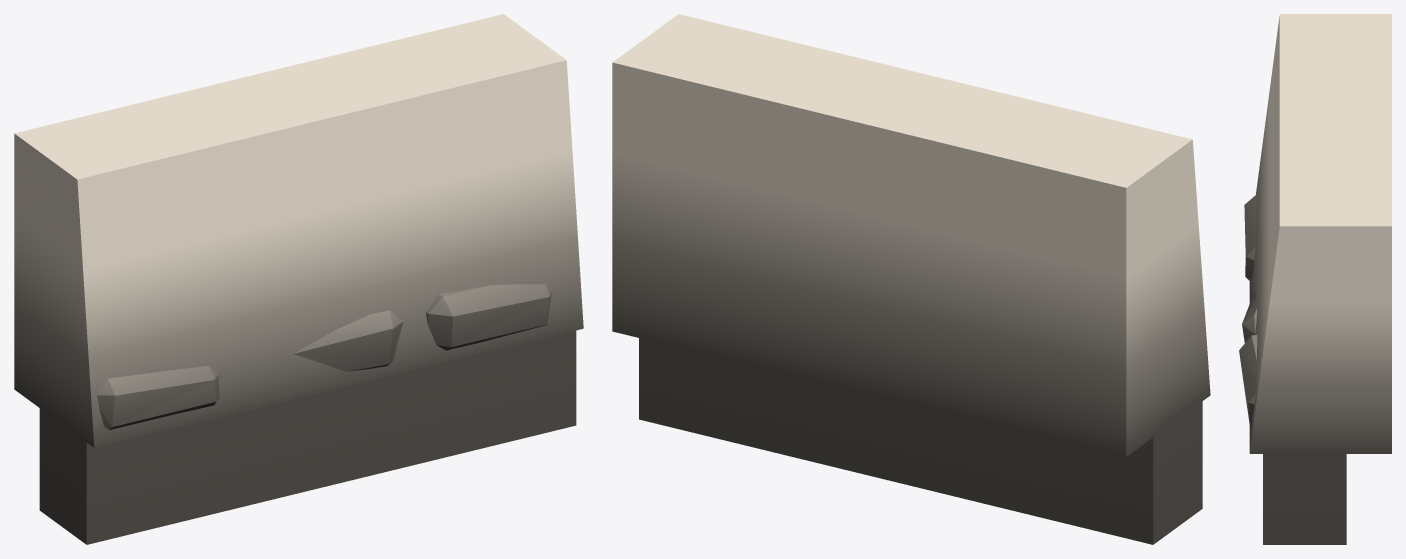
The model's file is SM_VK_Foundation_Drop.fbx.
3 renders of one model, left to right at view 1: azimuth 30°, elevation 25°; view 2: azimuth 150°, elevation 25°; view 3: azimuth 270°, elevation 25°, orthographic. The views are drawn at different scales.
Parts seen in each view (by area): view 1: SM_VK_Foundation_Drop.001; view 2: SM_VK_Foundation_Drop.001; view 3: SM_VK_Foundation_Drop.001.
Part boxes in pixels (x1=…): SM_VK_Foundation_Drop.001: x1=14, y1=14, x2=583, y2=544; SM_VK_Foundation_Drop.001: x1=612, y1=14, x2=1210, y2=544; SM_VK_Foundation_Drop.001: x1=1239, y1=14, x2=1391, y2=544.
Bounding box in the file's own units: 3 × 2.1 × 0.9133.
